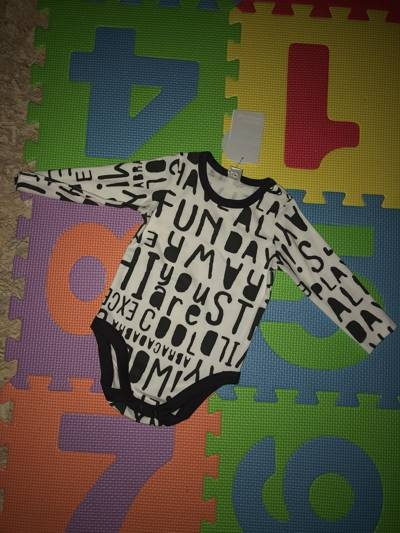Body: (4, 119, 396, 429)
